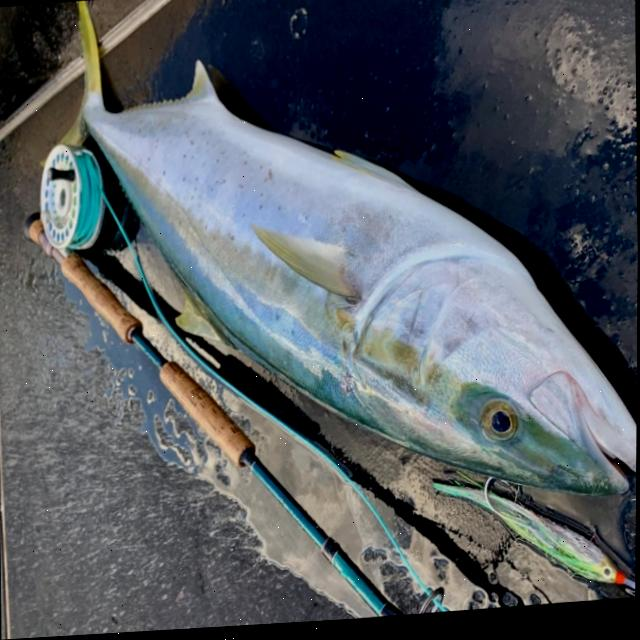Kingfish: (32, 0, 640, 546)
